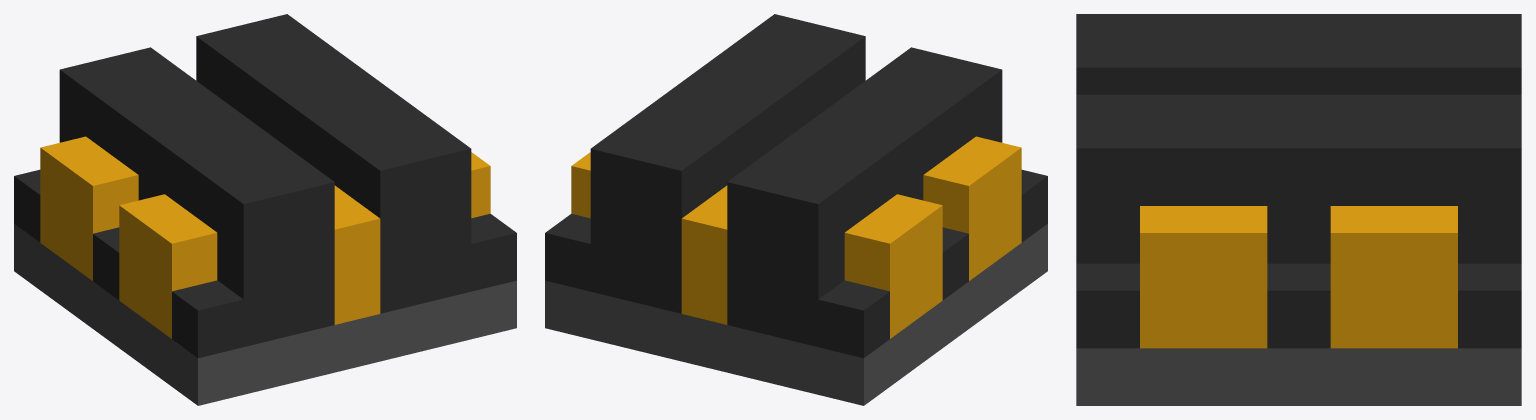
File: WeaponTargetting#1.obj
The picture shows the model from 3 angles, left to right: view 1: azimuth 30°, elevation 25°; view 2: azimuth 150°, elevation 25°; view 3: azimuth 270°, elevation 25°; orthographic projection. The views are drawn at different scales.
Size of the model in its own units: 0.7 by 0.5 by 0.7.
Materials: 1 (1 with a texture image).
